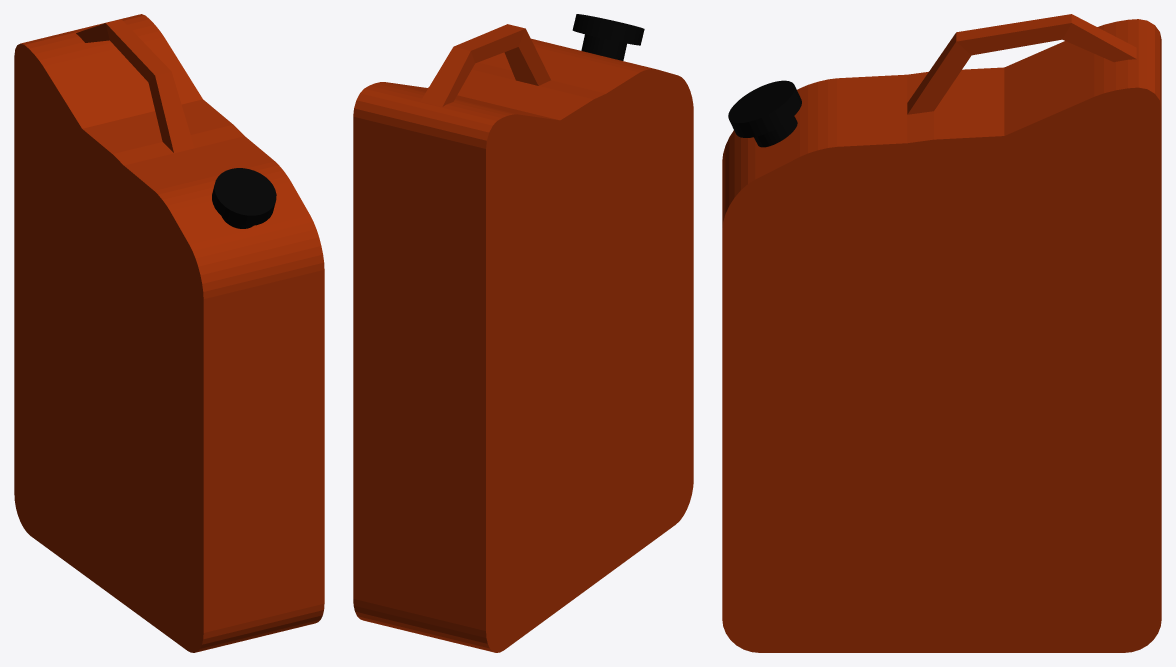
The model's file is MESH_Folgorazione_FuelTank2.fbx.
3 views of the same model, side by side, from view 1: azimuth 30°, elevation 25°; view 2: azimuth 150°, elevation 25°; view 3: azimuth 270°, elevation 25° (orthographic). The views are drawn at different scales.
Visible parts, largest first — view 1: Cube; view 2: Cube; view 3: Cube.
Boxes of the visible parts, x1=… form: Cube: x1=14, y1=14, x2=324, y2=652; Cube: x1=353, y1=14, x2=693, y2=652; Cube: x1=722, y1=14, x2=1161, y2=652.
Size of the model in its own units: 64.42 by 263 by 175.
